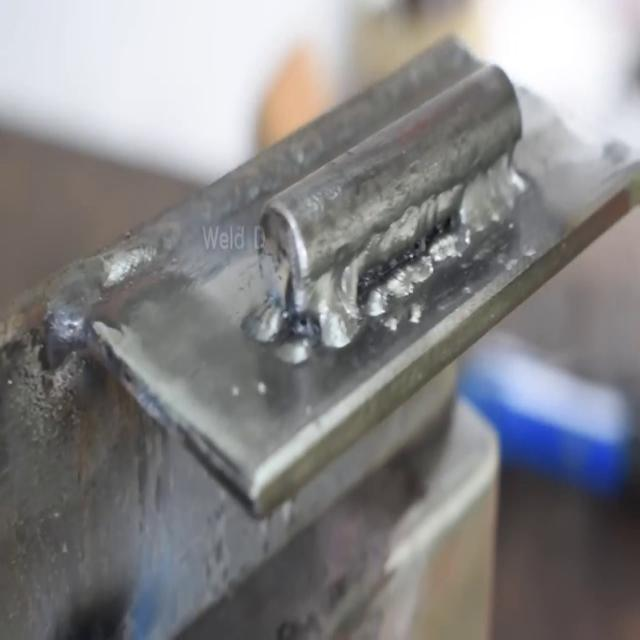Bad Weld: (255, 192, 465, 364)
Defect: (354, 215, 452, 308), (277, 302, 323, 348)
